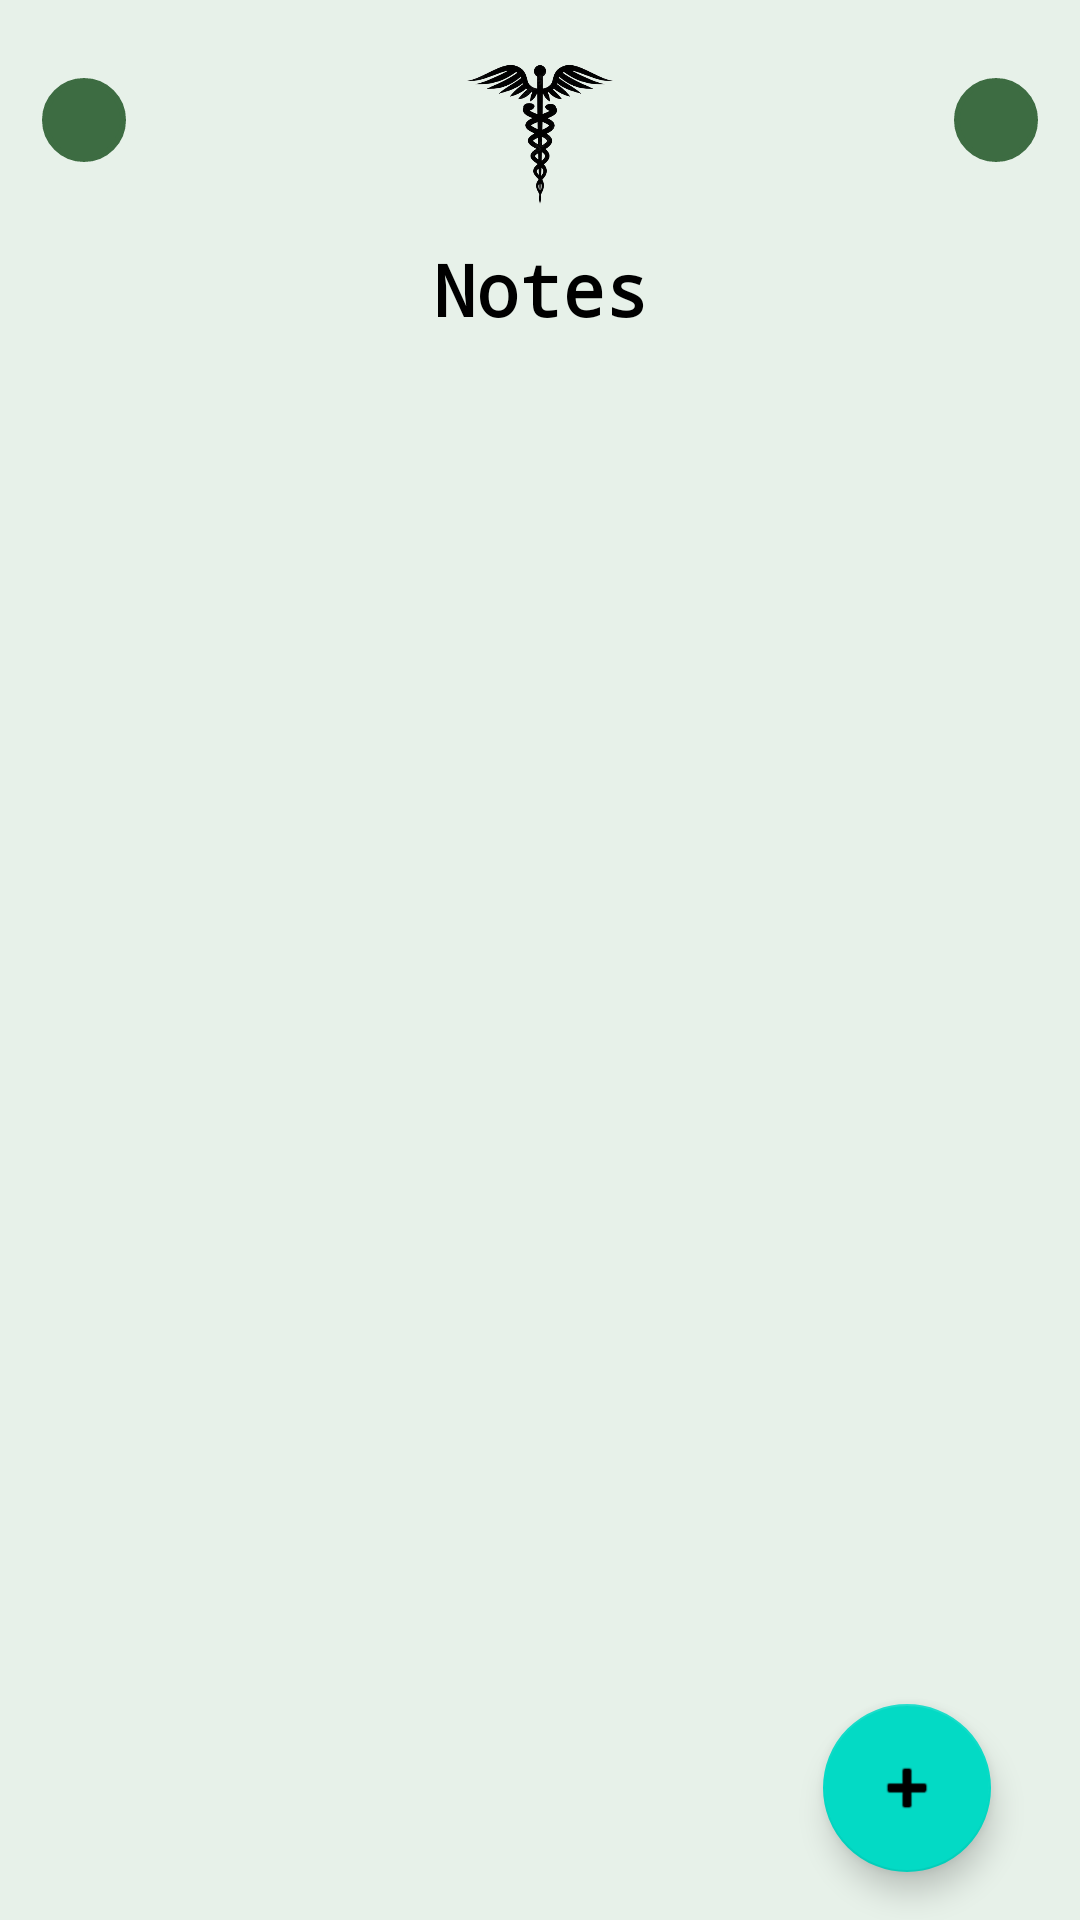

Where icons sit on this 1080×1920 app screen, as region(x1, y1, x2, y2):
Add Note: region(823, 1704, 991, 1872)
